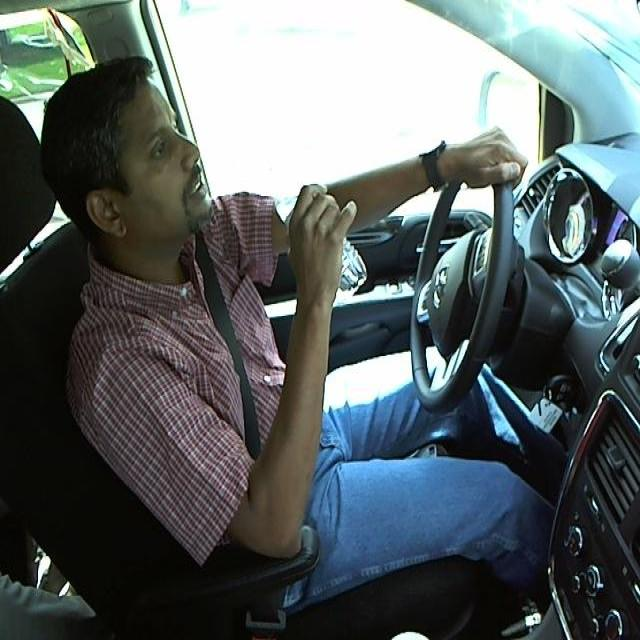Seatbelt: (260, 167, 359, 285)
